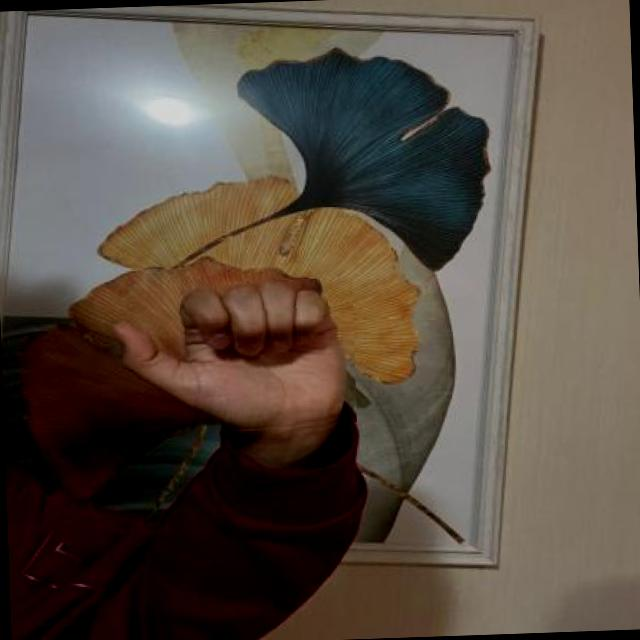E: (102, 276, 356, 438)
